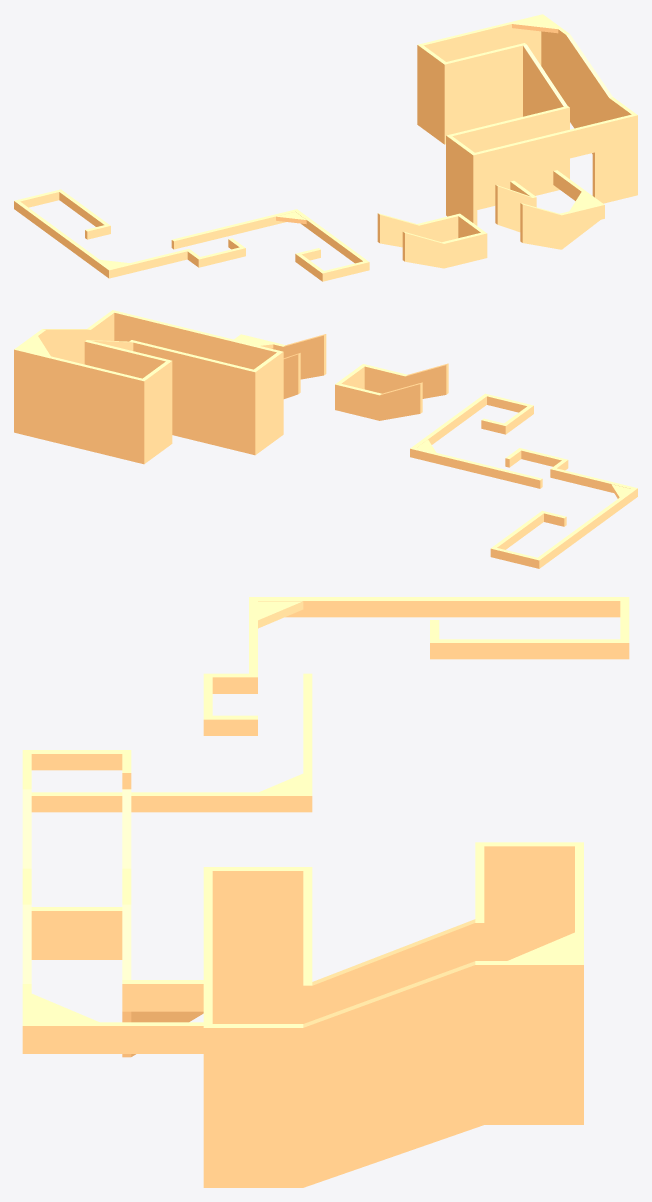
File: Secret Hole Trim.glb
3 renders of one model, top to bottom at view 1: azimuth 30°, elevation 25°; view 2: azimuth 150°, elevation 25°; view 3: azimuth 270°, elevation 25°, orthographic. The views are drawn at different scales.
Visible parts, largest first — view 1: Secret Hole Trim; view 2: Secret Hole Trim; view 3: Secret Hole Trim.
Boxes of the visible parts, left/top/right/bottom form: Secret Hole Trim: left=14, top=14, right=637, bottom=281; Secret Hole Trim: left=14, top=310, right=637, bottom=568; Secret Hole Trim: left=22, top=597, right=629, bottom=1187.
Size of what is drawn, in the model's own units: 26.4 by 5.43 by 13.4.
